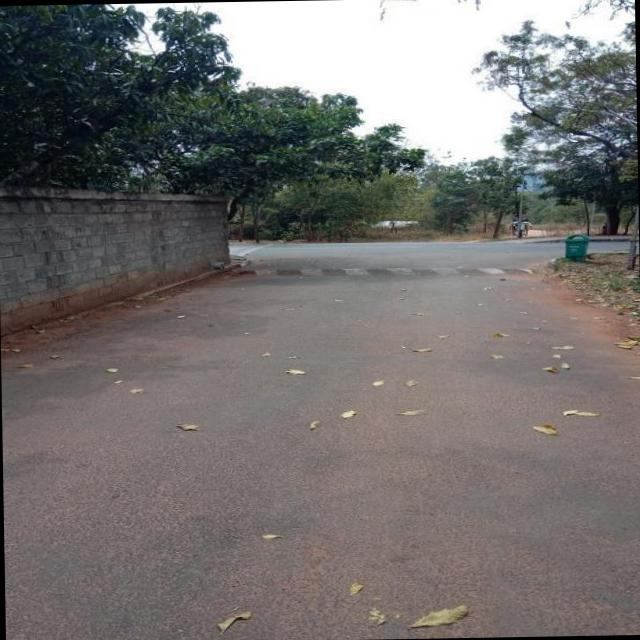bump: (225, 253, 510, 290)
